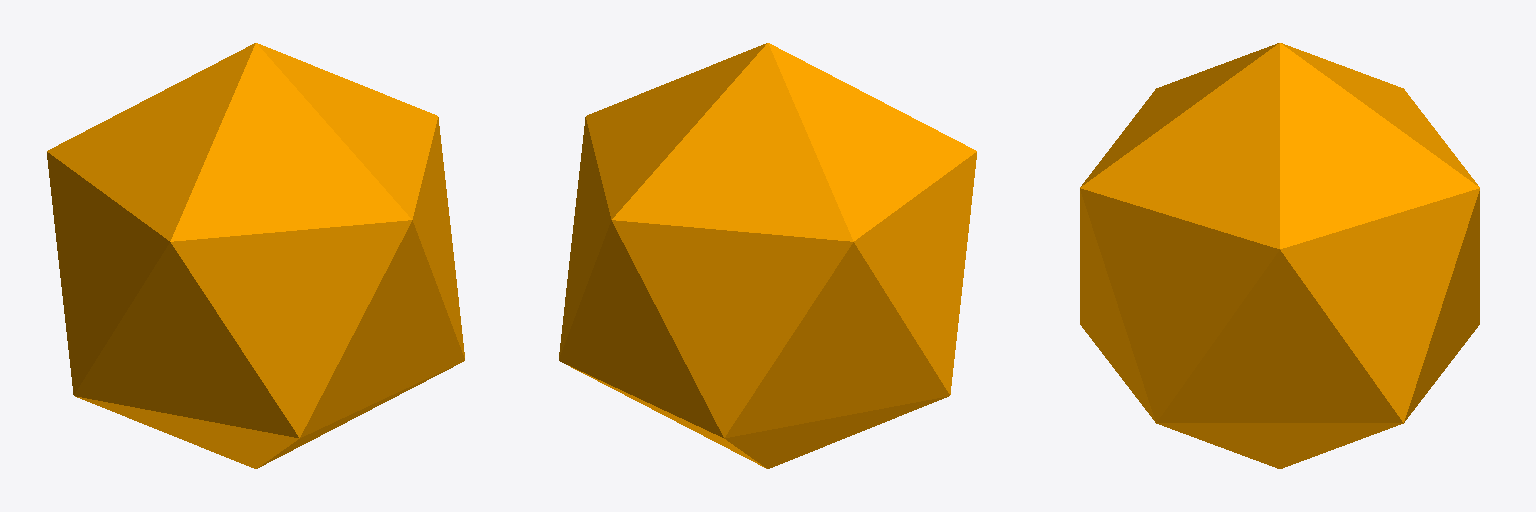
The picture shows the model from 3 angles: view 1: azimuth 30°, elevation 25°; view 2: azimuth 150°, elevation 25°; view 3: azimuth 270°, elevation 25°; orthographic projection.
Visible parts, largest first — view 1: Icosphere; view 2: Icosphere; view 3: Icosphere.
Part boxes in pixels (bbox=[...]): Icosphere: bbox=[47, 43, 464, 468]; Icosphere: bbox=[559, 43, 976, 468]; Icosphere: bbox=[1080, 43, 1479, 468].
Size of the model in its own units: 1.79 by 2 by 1.7.
Materials: 1 (1 with a texture image).